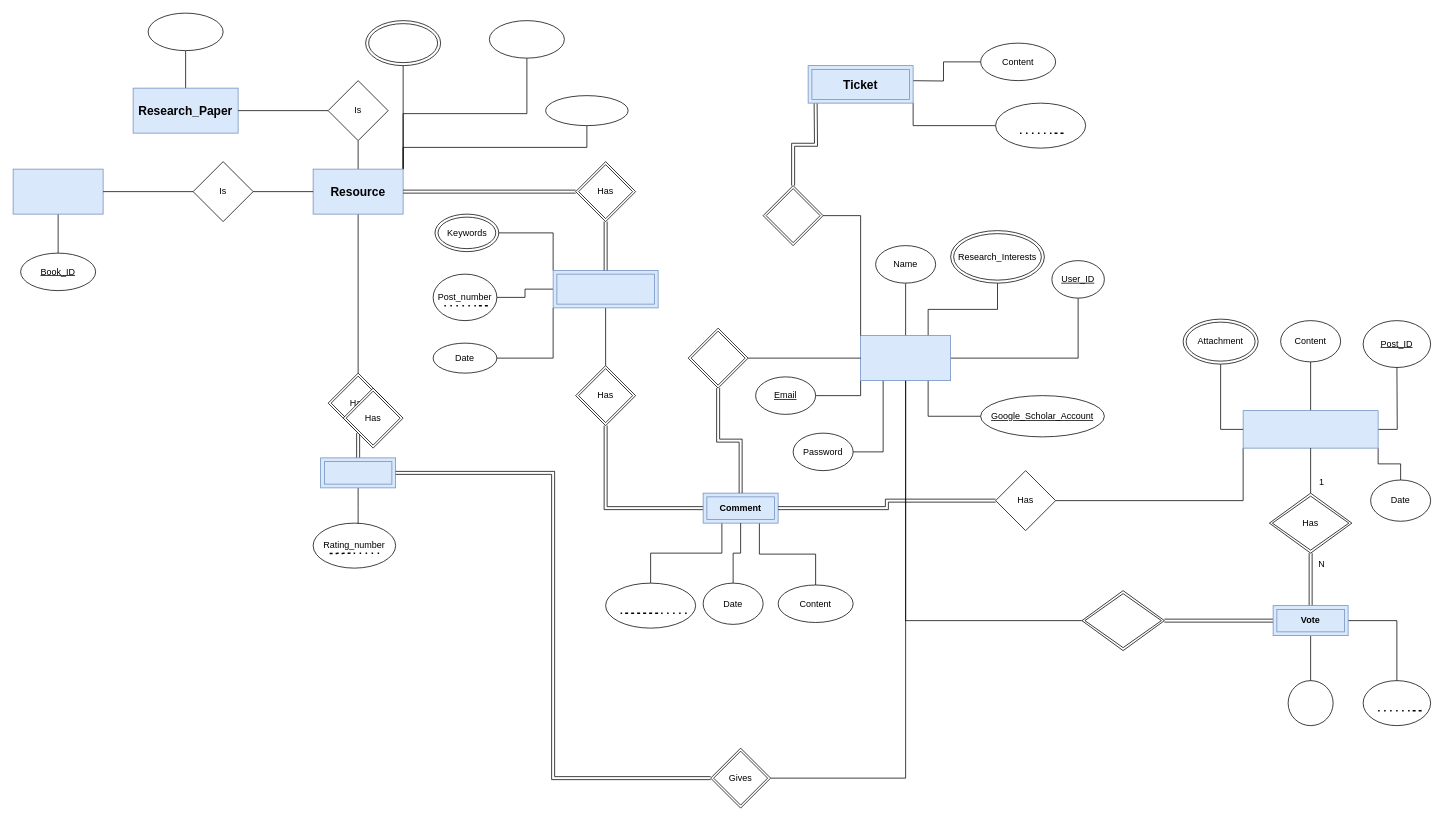
The diagram is 1444 pixels wide and 821 high, and some of its shapes have lost their labels. The shapes that lost their labels are listed below. From the top down, each one's centre as x and y in pixels, then its label:
At [185,31]: "Paper_ID".
At [403,43]: "Topic".
At [526,39]: "Resource_ID".
At [586,110]: "Hyperlink".
At [1040,125]: "Ticket_number".
At [57,191]: "Textbook".
At [792,215]: "Issues".
At [605,289]: "Resource_Post".
At [717,357]: "Writes".
At [905,358]: "User".
At [1310,429]: "Community_Post".
At [358,472]: "Rating".
At [650,605]: "Comment_number".
At [1122,620]: "Can".
At [1310,703]: "Vote_type".
At [1396,703]: "Vote_number".
